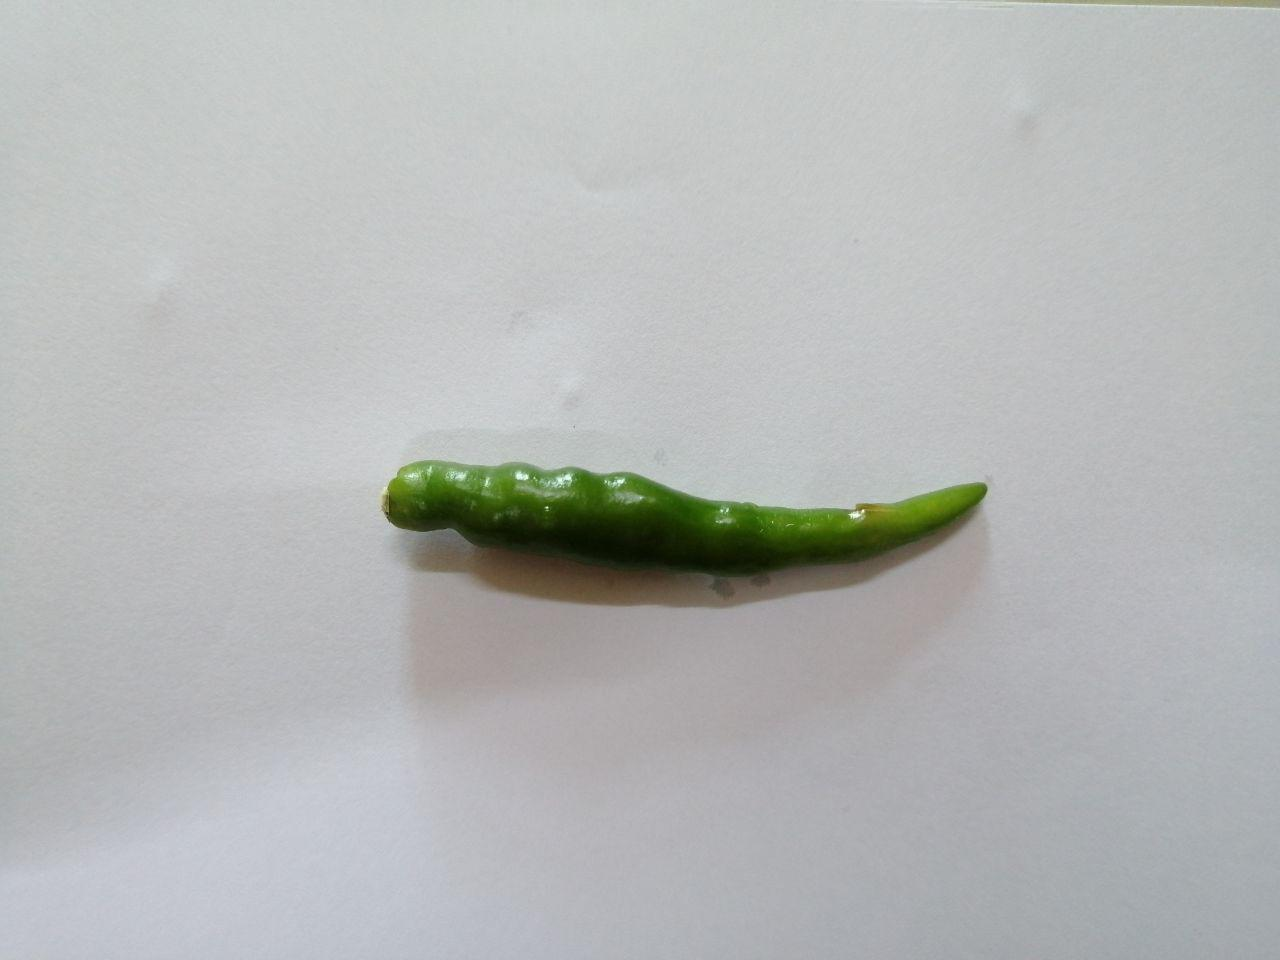lada hijau: (363, 418, 1003, 611)
